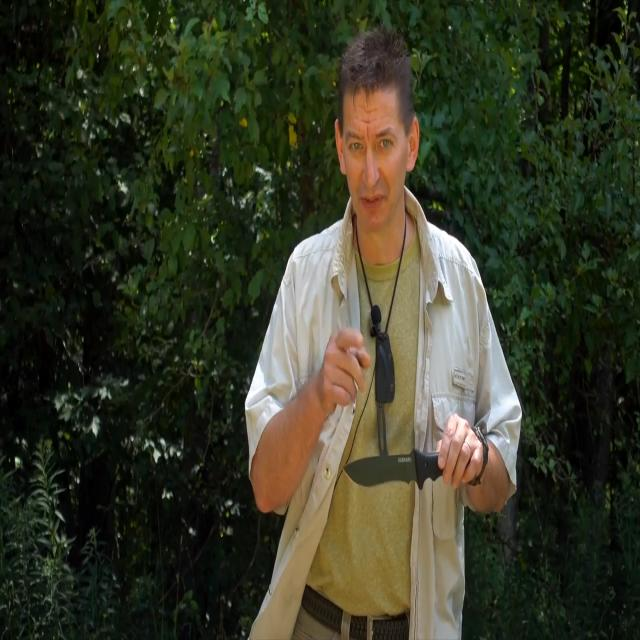knife: (339, 448, 437, 510)
